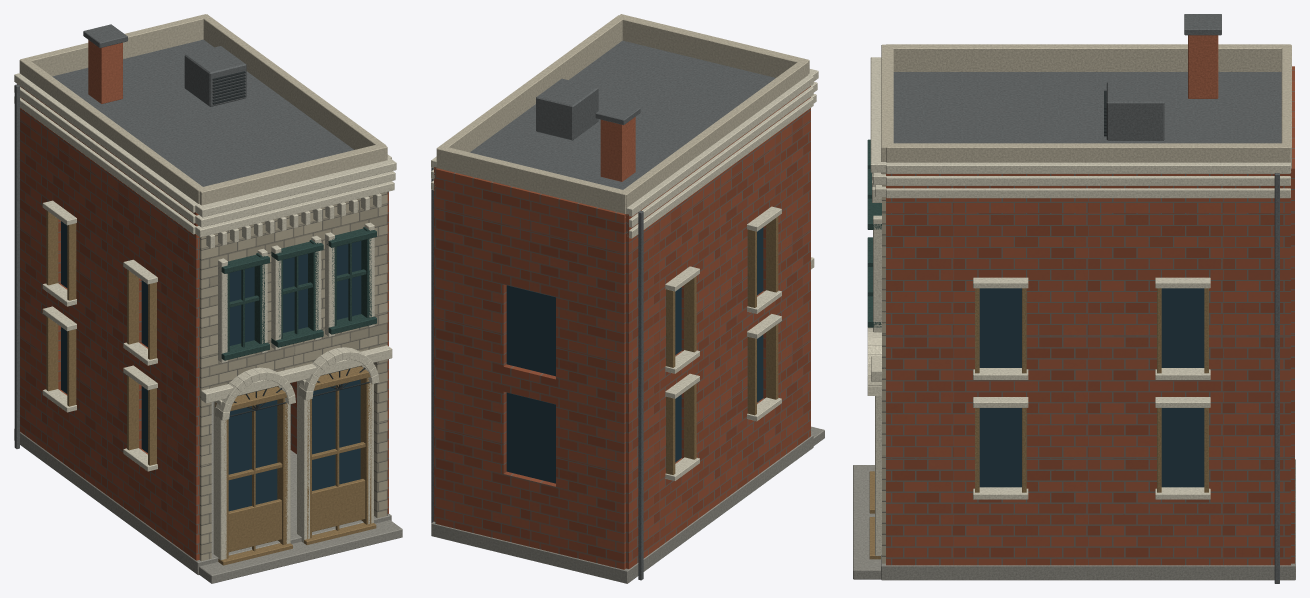
File: CLSTGA15_lod1.glb
The picture shows the model from 3 angles, left to right: view 1: azimuth 30°, elevation 25°; view 2: azimuth 150°, elevation 25°; view 3: azimuth 270°, elevation 25°; orthographic projection. The views are drawn at different scales.
Parts seen in each view (by area): view 1: CLSTGA15_LOD1; view 2: CLSTGA15_LOD1; view 3: CLSTGA15_LOD1.
Part boxes in pixels (<box>): CLSTGA15_LOD1: <box>14,14,402,583</box>; CLSTGA15_LOD1: <box>431,14,824,583</box>; CLSTGA15_LOD1: <box>853,14,1295,583</box>.
Size of the model in its own units: 4.11 by 7.85 by 6.57.
Materials: 12 (10 with a texture image).
